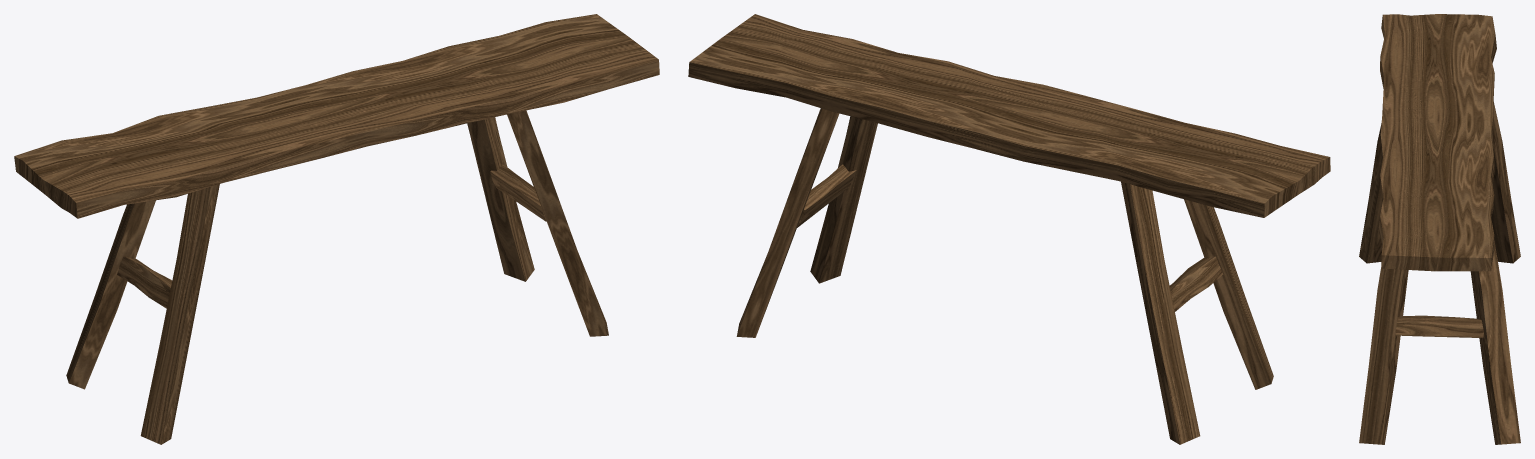
Rendered from banc_LOD1.FBX.
3 views of the same model, side by side, from view 1: azimuth 30°, elevation 25°; view 2: azimuth 150°, elevation 25°; view 3: azimuth 270°, elevation 25° (orthographic). The views are drawn at different scales.
Parts seen in each view (by area): view 1: banc_LOD01; view 2: banc_LOD01; view 3: banc_LOD01.
Boxes of the visible parts, <box> form: banc_LOD01: <box>14,14,659,444</box>; banc_LOD01: <box>688,14,1330,444</box>; banc_LOD01: <box>1359,14,1520,444</box>.
Bounding box in the file's own units: 126 × 52.95 × 35.34.
